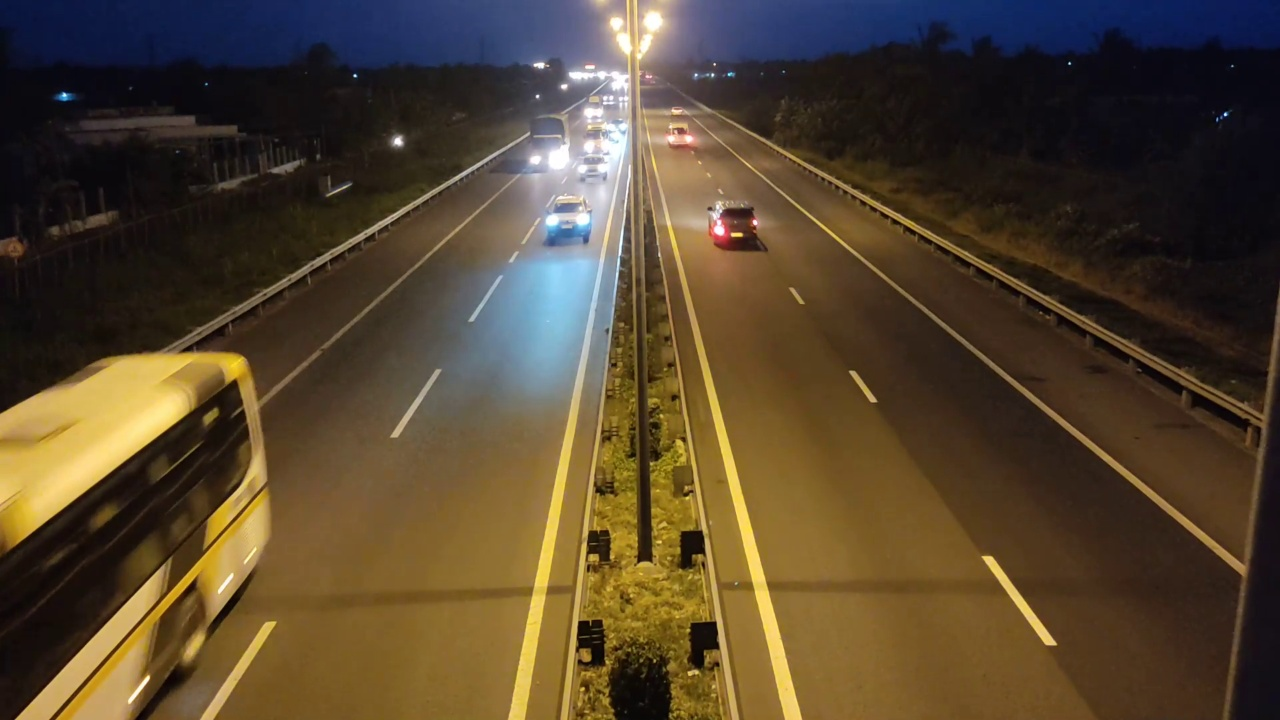bus: (1, 351, 273, 712)
car: (707, 199, 763, 250), (542, 193, 593, 245), (665, 123, 694, 149)
